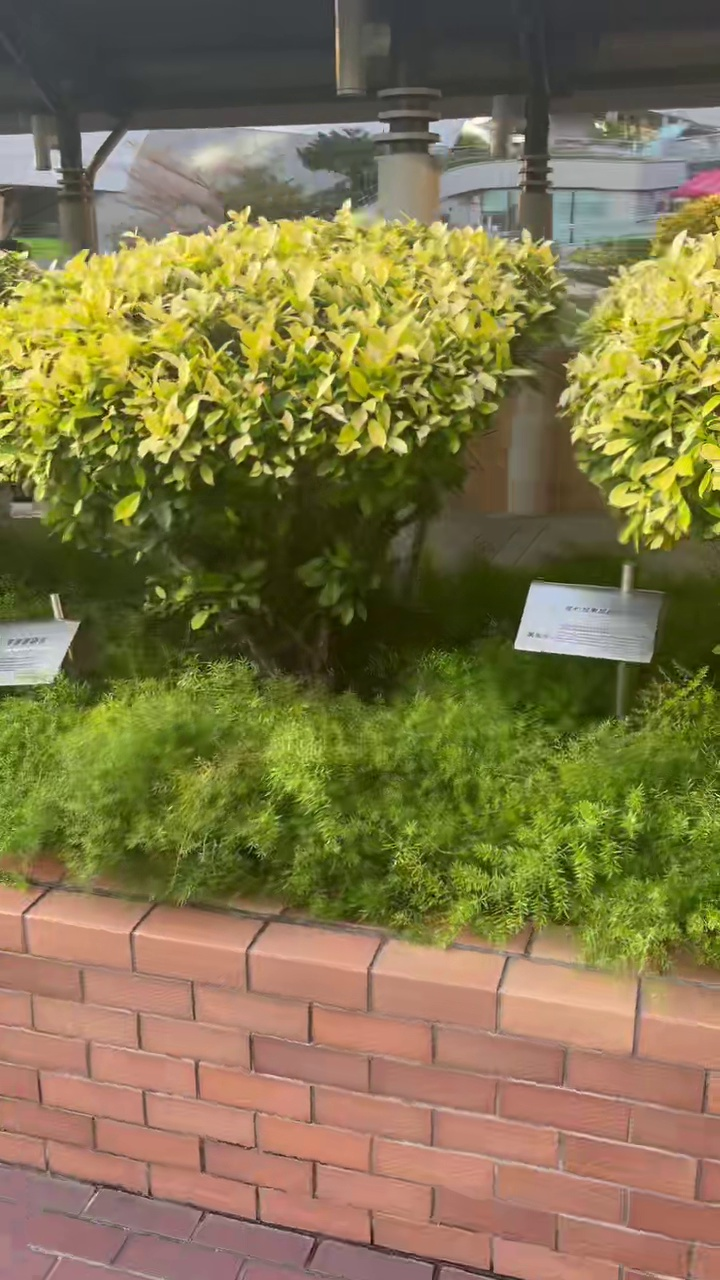Golden-leaves Fig: (0, 210, 561, 670)
